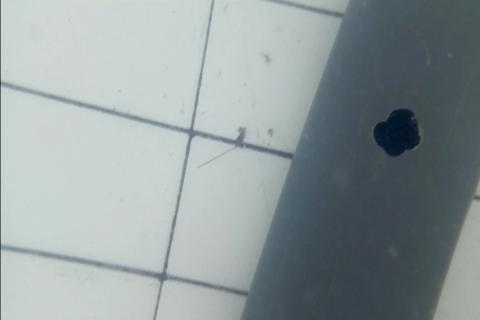kebocoran: (371, 105, 423, 158)
